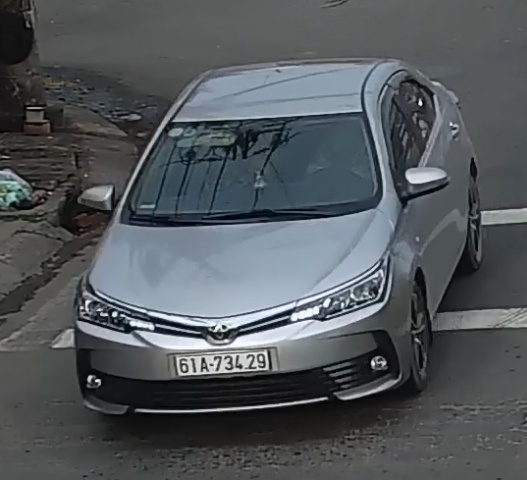vehicle plate: (169, 349, 278, 379)
